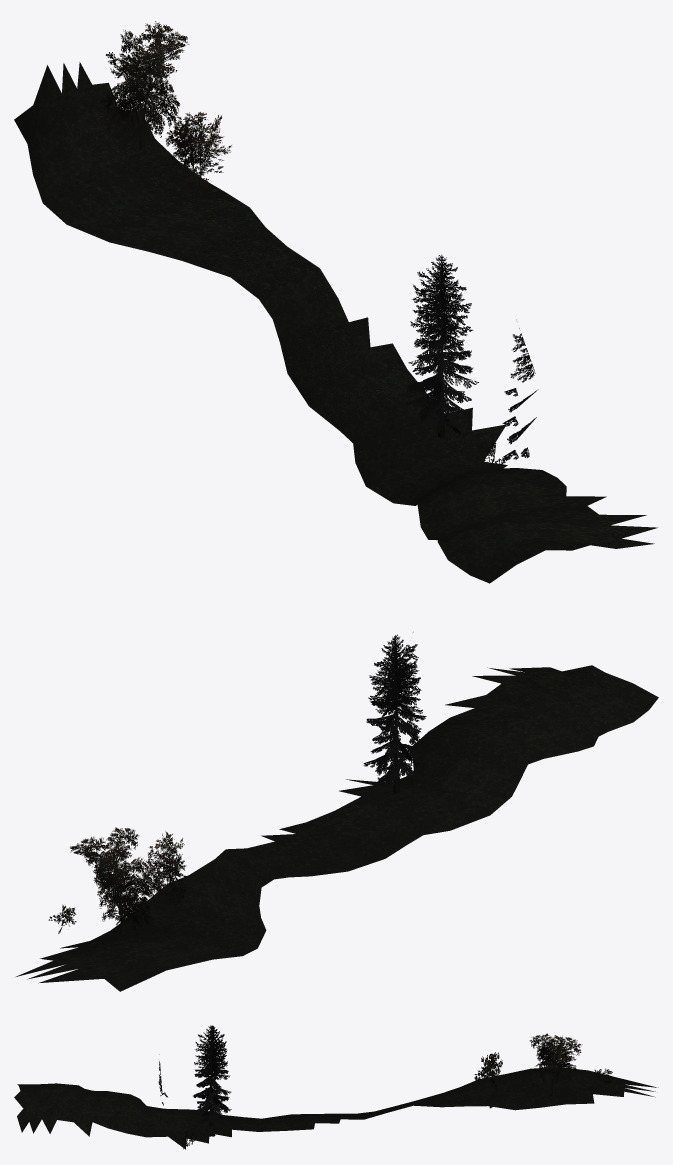
File: cell_7_-13.gltf
3 renders of one model, top to bottom at view 1: azimuth 30°, elevation 25°; view 2: azimuth 150°, elevation 25°; view 3: azimuth 270°, elevation 25°, orthographic. The views are drawn at different scales.
Parts seen in each view (by area): view 1: cell_7_-13; view 2: cell_7_-13; view 3: cell_7_-13.
Part boxes in pixels (x1,y1,x2,y2): cell_7_-13: (14,21,657,583); cell_7_-13: (16,632,658,991); cell_7_-13: (14,1025,658,1149).
Bounding box in the file's own units: 54.79 × 53.56 × 267.
9 materials, 9 textured.
